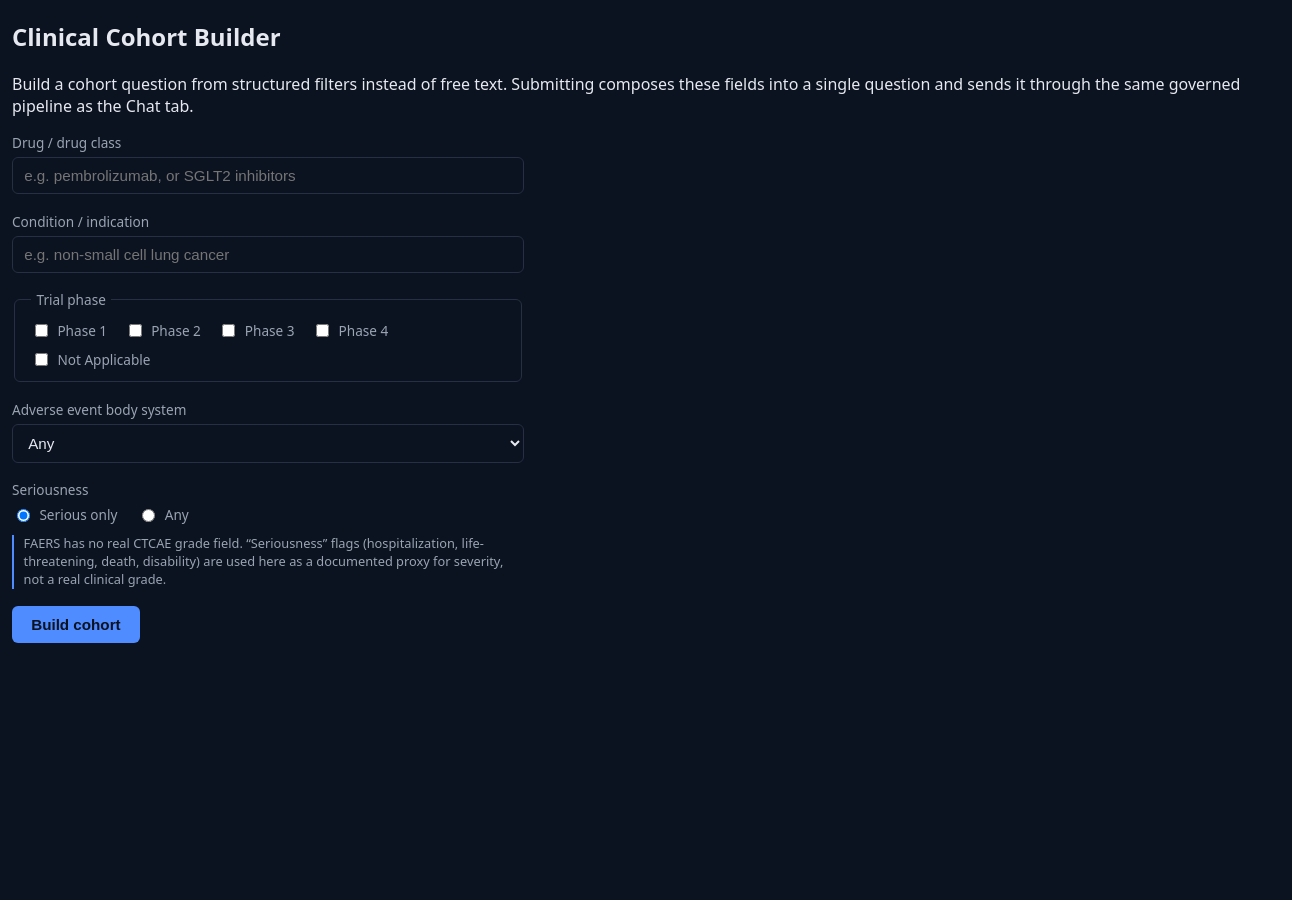
CohortPage › renders a guardrail rejection distinctly from a normal answer
Click the button "Build cohort": point(76, 624) [12,606,140,643]
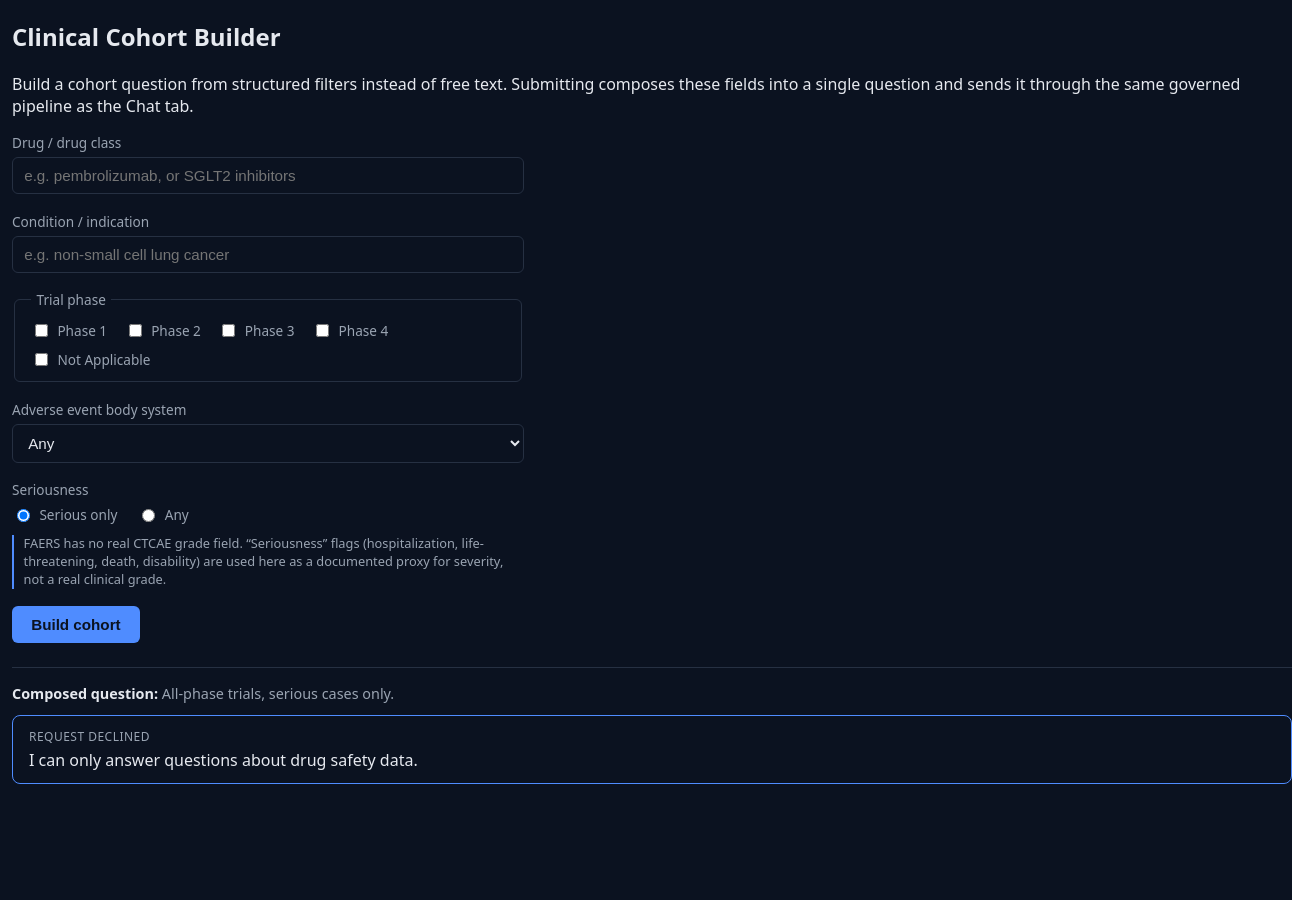
Now the text "I can only answer questions about drug safety data." is shown, box [29,749,418,771]
Now the text "Request declined" is shown, box [29,728,150,745]
Now the element that starts with "Request declined" is shown, box [12,715,1291,784]
